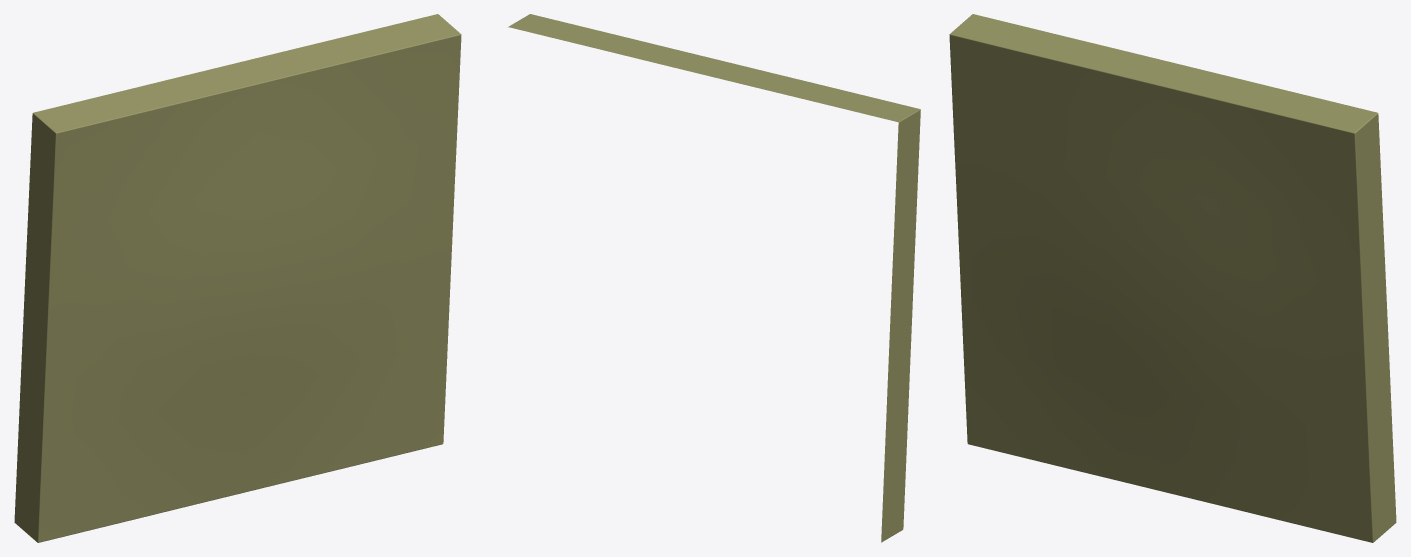
The model's file is bronze.glb.
The picture shows the model from 3 angles, left to right: view 1: azimuth 30°, elevation 25°; view 2: azimuth 150°, elevation 25°; view 3: azimuth 330°, elevation 25°; orthographic projection. The views are drawn at different scales.
Visible parts, largest first — view 1: Object010; view 2: Object010; view 3: Object010.
Boxes of the visible parts, x1,y1,x2,y2 form: Object010: (14,14,461,542); Object010: (508,14,920,542); Object010: (949,14,1396,542).
Size of the model in its own units: 0.0528 by 0.053 by 0.00936.
